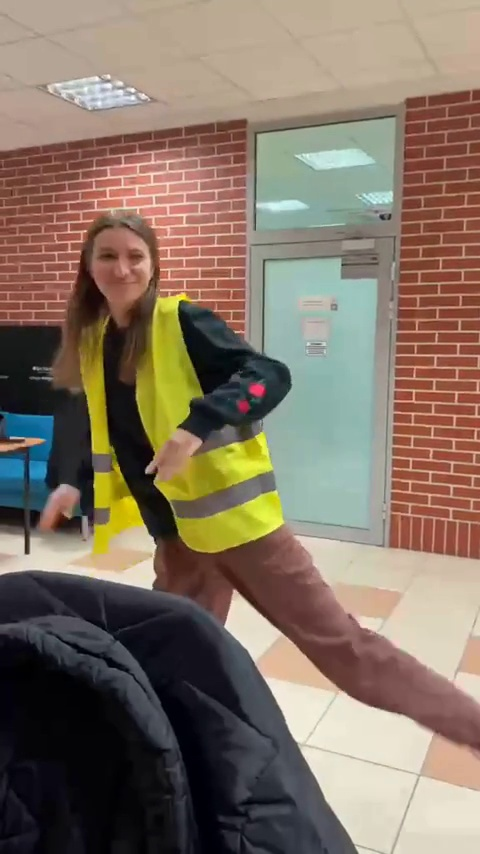vest: (57, 204, 395, 734)
